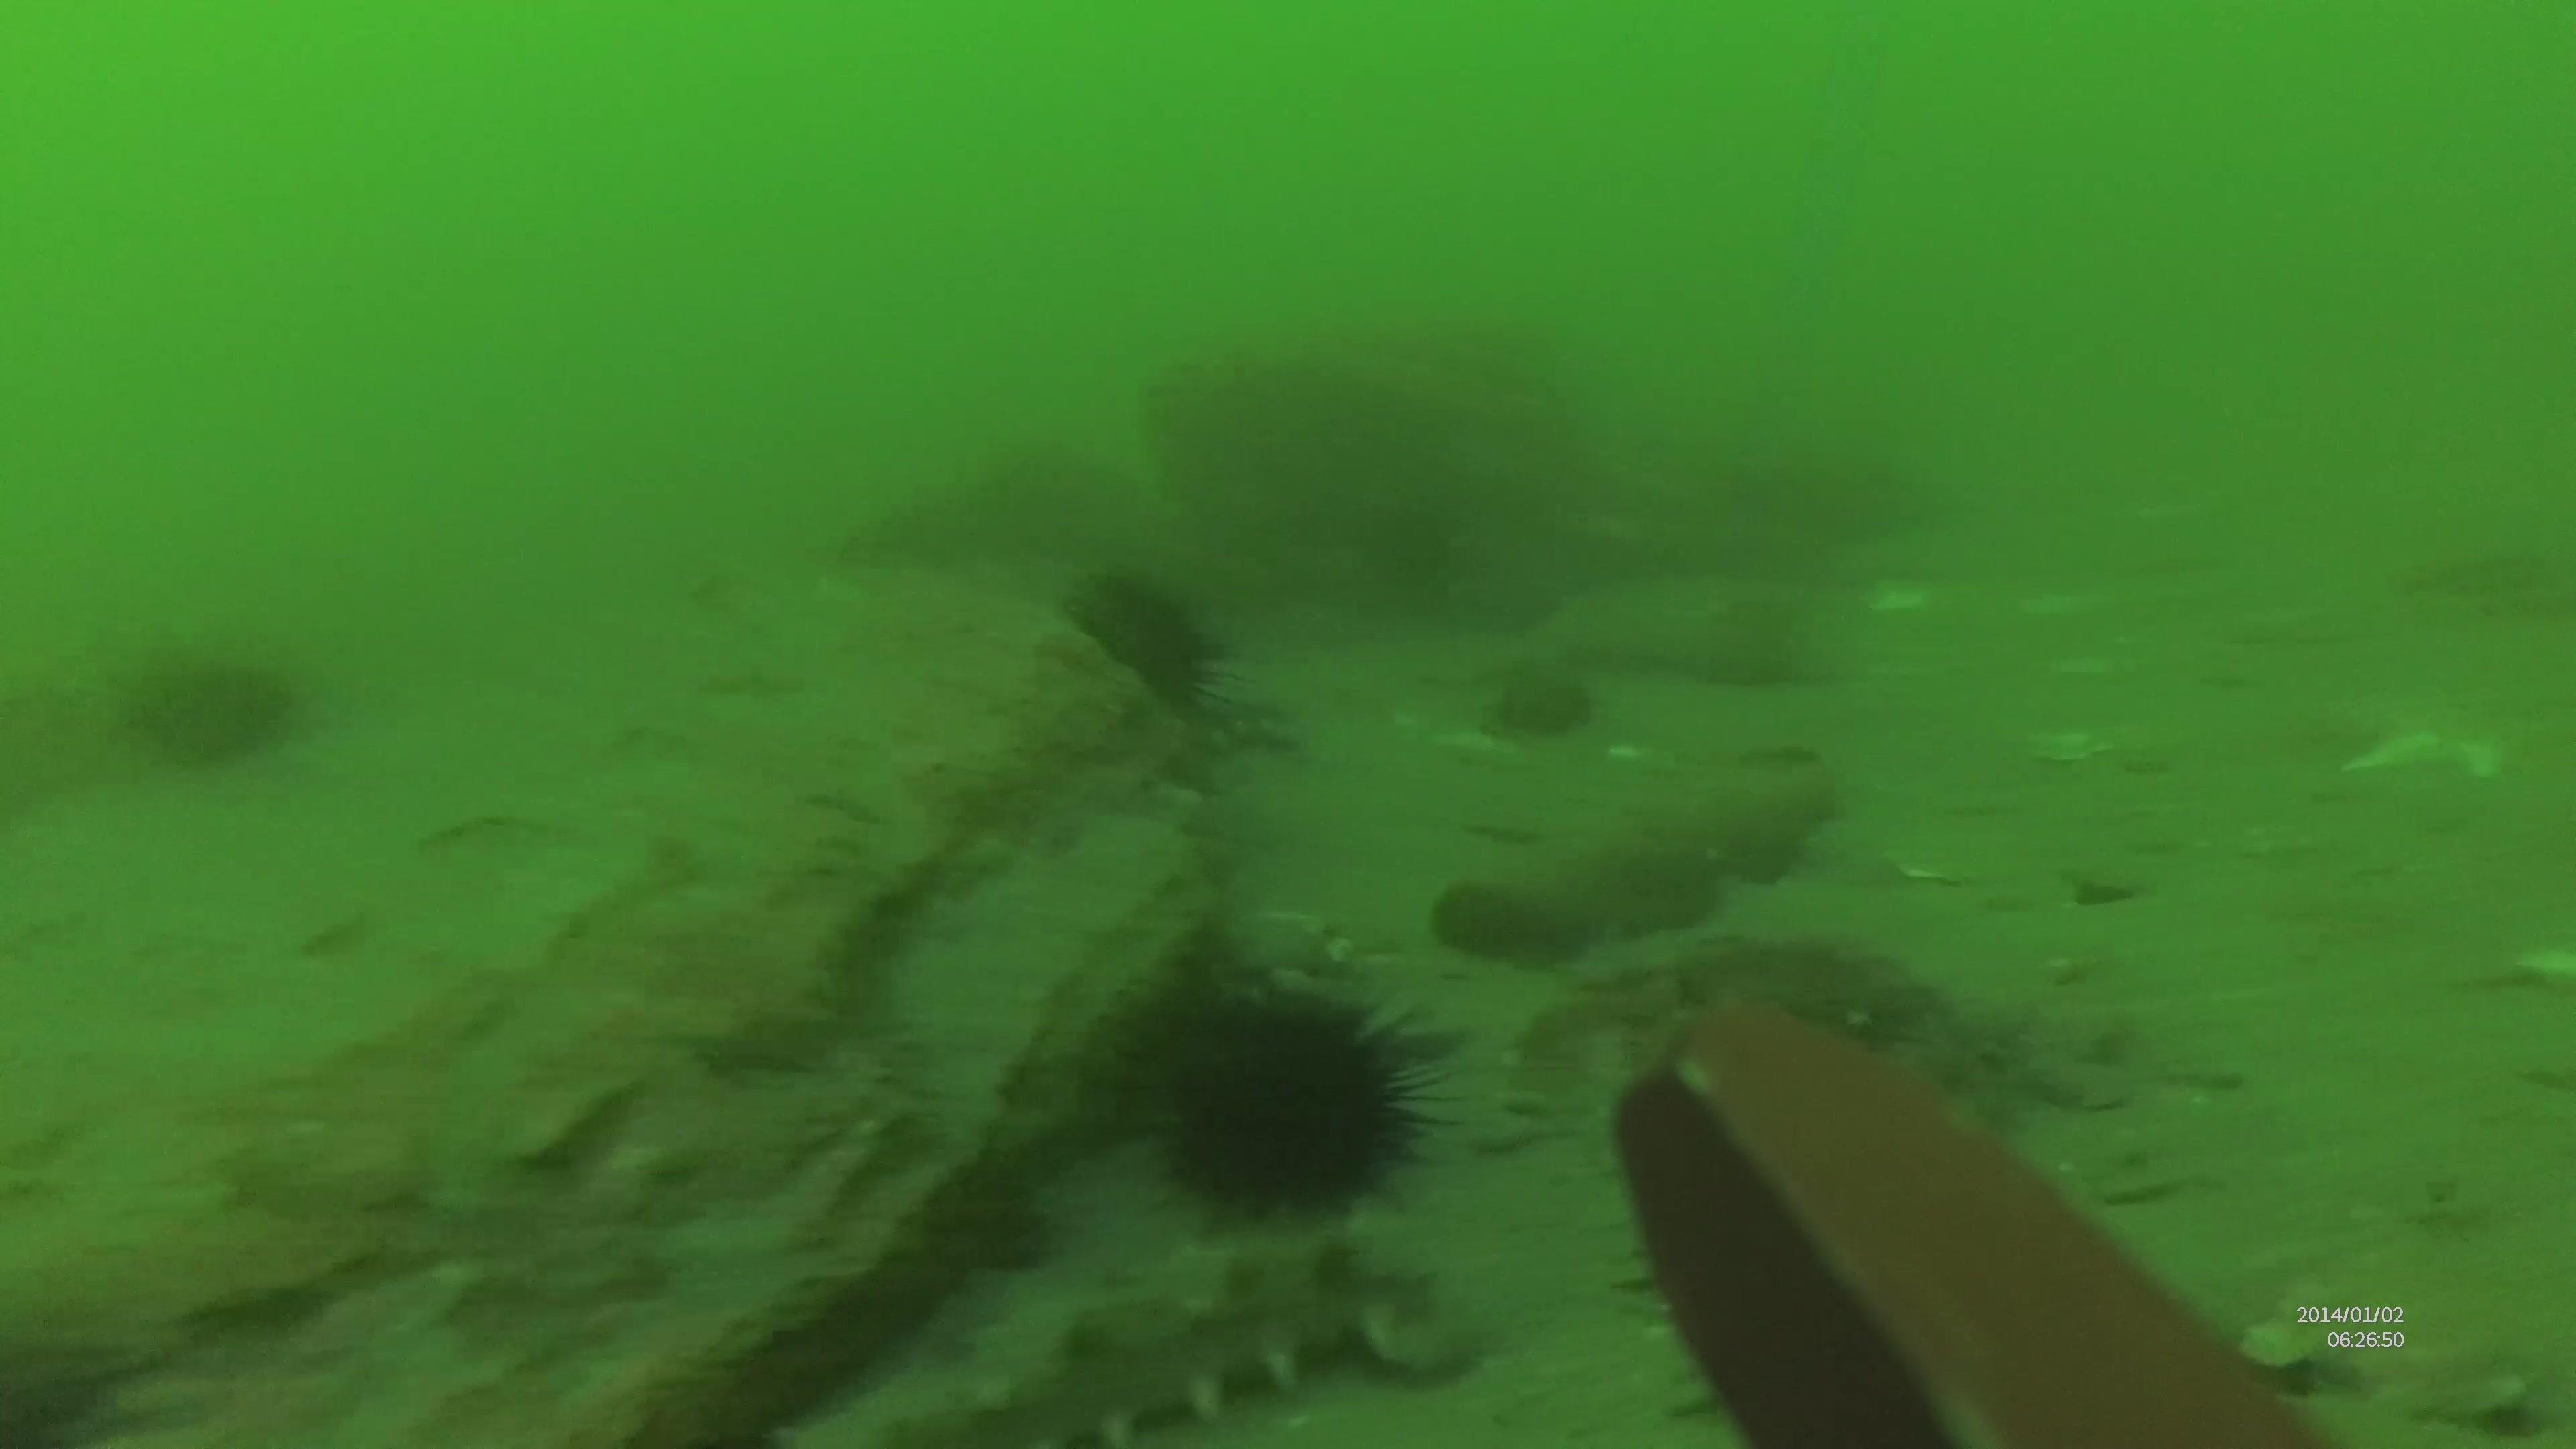echinus: (1116, 980, 1437, 1226), (1058, 570, 1237, 713), (142, 656, 292, 764)
holothurian: (863, 1231, 1438, 1449)
